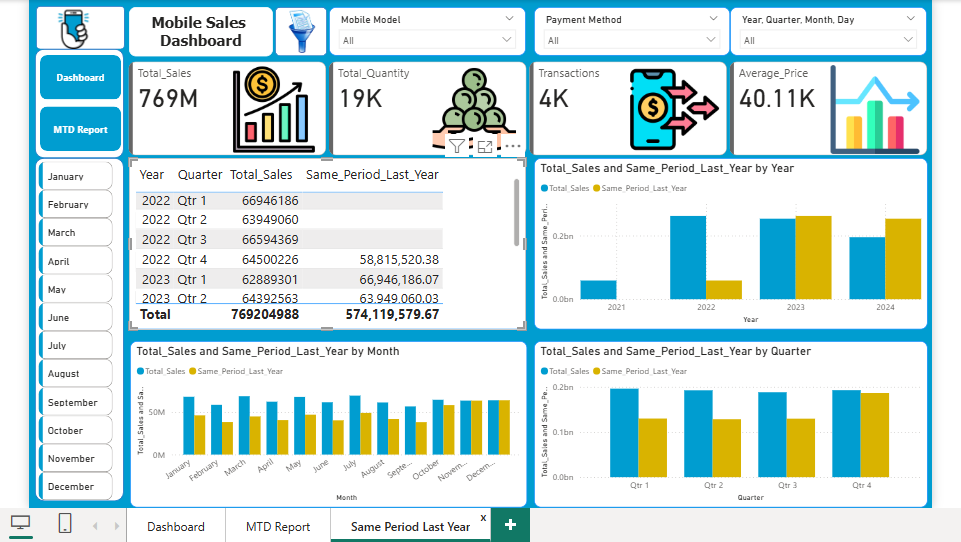

The page's visual inventory and layout, read from the dashboard file:
{"tool":"powerbi","page":{"name":"Same Period Last Year","canvas":[1280,720],"ordinal":2},"visuals":[{"type":"shape","box":[10,8.6,125.9,61.5],"z":0},{"type":"image","box":[15.8,0,95.5,82.7],"z":1000},{"type":"shape","box":[8.6,70.1,125.9,154.5],"z":2000},{"type":"cardVisual","fields":{"Data":["Sales_Data.Total_Sales","Sales_Data.Total_Quantity","Sales_Data.Transactions","Sales_Data.Average_Price"]},"box":[135.9,81.5,1144.1,143],"z":3000},{"type":"slicer","fields":{"Values":["Sales_Data.Mobile Model"]},"box":[425.1,10,279,69.4],"z":4000},{"type":"slicer","fields":{"Values":["Sales_Data.Payment Method"]},"box":[715.7,9.9,277.8,69.4],"z":5000},{"type":"slicer","fields":{"Values":["Custom_Calendar.Date.Variation.Date Hierarchy.Year","Custom_Calendar.Date.Variation.Date Hierarchy.Quarter","Custom_Calendar.Date.Variation.Date Hierarchy.Month","Custom_Calendar.Date.Variation.Date Hierarchy.Day"]},"box":[993.2,10,279.5,69.4],"z":6000},{"type":"shape","box":[348.7,9.9,73.7,69.4],"z":7000},{"type":"image","box":[294.3,4.6,182.9,77.7],"z":8000},{"type":"textbox","box":[141.1,9.9,203.6,69.6],"z":9000},{"type":"shape","box":[8.6,224.5,125.9,486.3],"z":10000},{"type":"advancedSlicerVisual","fields":{"Values":["Custom_Calendar.Date.Variation.Date Hierarchy.Month"]},"box":[8.6,224.5,115.8,494.8],"z":11000},{"type":"tableEx","fields":{"Values":["Custom_Calendar.Date.Variation.Date Hierarchy.Year","Custom_Calendar.Date.Variation.Date Hierarchy.Quarter","Sales_Data.Total_Sales","Sales_Data.Same_Period_Last_Year"]},"box":[141.6,224.5,563.5,243.1],"z":12000},{"type":"clusteredColumnChart","fields":{"Category":["Custom_Calendar.Date.Variation.Date Hierarchy.Year","Custom_Calendar.Date.Variation.Date Hierarchy.Quarter"],"Y":["Sales_Data.Total_Sales","Sales_Data.Same_Period_Last_Year"]},"box":[715.1,224.5,557.8,243.1],"z":13000},{"type":"clusteredColumnChart","fields":{"Category":["Custom_Calendar.Date.Variation.Date Hierarchy.Year","Custom_Calendar.Date.Variation.Date Hierarchy.Quarter"],"Y":["Sales_Data.Total_Sales","Sales_Data.Same_Period_Last_Year"]},"box":[715.1,483.4,557.8,236],"z":14000},{"type":"clusteredColumnChart","fields":{"Y":["Sales_Data.Total_Sales","Sales_Data.Same_Period_Last_Year"],"Category":["Custom_Calendar.Date.Variation.Date Hierarchy.Month"]},"box":[143,483.4,563.5,236],"z":15000},{"type":"pageNavigator","box":[15.7,78.7,115.8,137.3],"z":16000}]}

Visuals, with their boxes on the page's 1280x720 design canvas (x1, y1, x2, y2). These are canvas units, not pixel positions in the 961x542 screenshot, which may show the page scaled, cropped or inside an application window:
shape: Rect(10, 9, 136, 70)
image: Rect(16, 0, 111, 83)
shape: Rect(9, 70, 134, 225)
cardVisual - Sales_Data.Total_Sales x Sales_Data.Total_Quantity: Rect(136, 82, 1280, 224)
slicer - Sales_Data.Mobile Model: Rect(425, 10, 704, 79)
slicer - Sales_Data.Payment Method: Rect(716, 10, 994, 79)
slicer - Custom_Calendar.Date.Variation.Date Hierarchy.Year x Custom_Calendar.Date.Variation.Date Hierarchy.Quarter: Rect(993, 10, 1273, 79)
shape: Rect(349, 10, 422, 79)
image: Rect(294, 5, 477, 82)
textbox: Rect(141, 10, 345, 80)
shape: Rect(9, 224, 134, 711)
advancedSlicerVisual - Custom_Calendar.Date.Variation.Date Hierarchy.Month: Rect(9, 224, 124, 719)
tableEx - Custom_Calendar.Date.Variation.Date Hierarchy.Year x Custom_Calendar.Date.Variation.Date Hierarchy.Quarter: Rect(142, 224, 705, 468)
clusteredColumnChart - Custom_Calendar.Date.Variation.Date Hierarchy.Year x Custom_Calendar.Date.Variation.Date Hierarchy.Quarter: Rect(715, 224, 1273, 468)
clusteredColumnChart - Custom_Calendar.Date.Variation.Date Hierarchy.Year x Custom_Calendar.Date.Variation.Date Hierarchy.Quarter: Rect(715, 483, 1273, 719)
clusteredColumnChart - Sales_Data.Total_Sales x Sales_Data.Same_Period_Last_Year: Rect(143, 483, 706, 719)
pageNavigator: Rect(16, 79, 132, 216)
